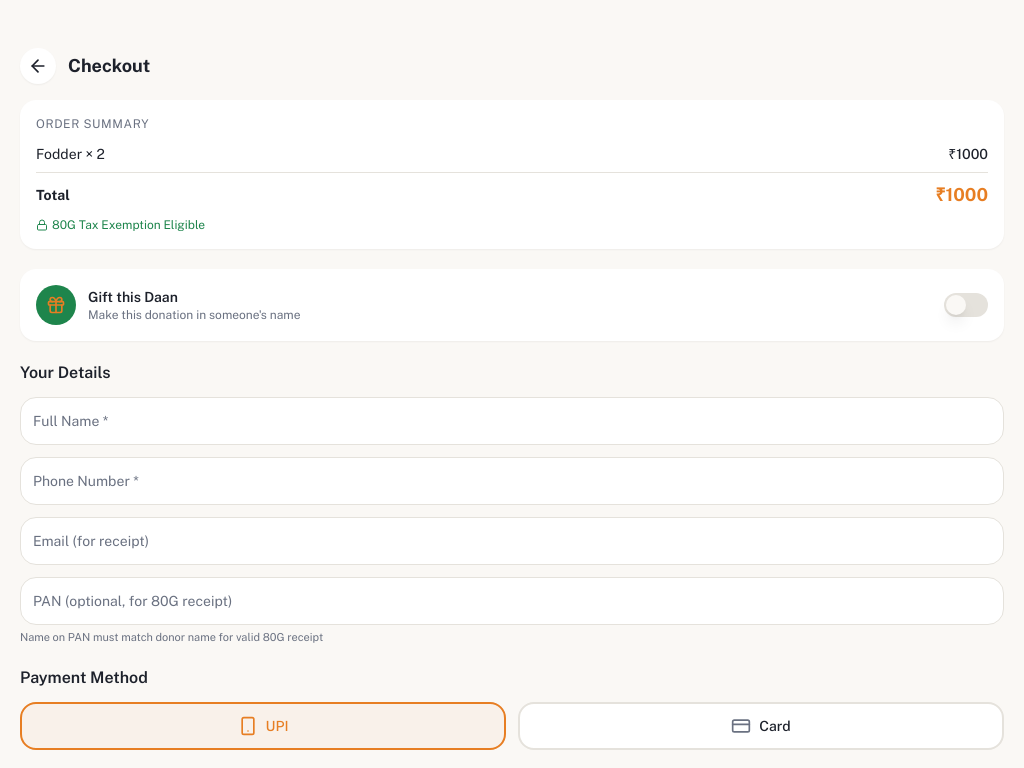
Test: Payment method › switches to card
Click the button "Card" at (761, 726), box [518,702,1004,750]
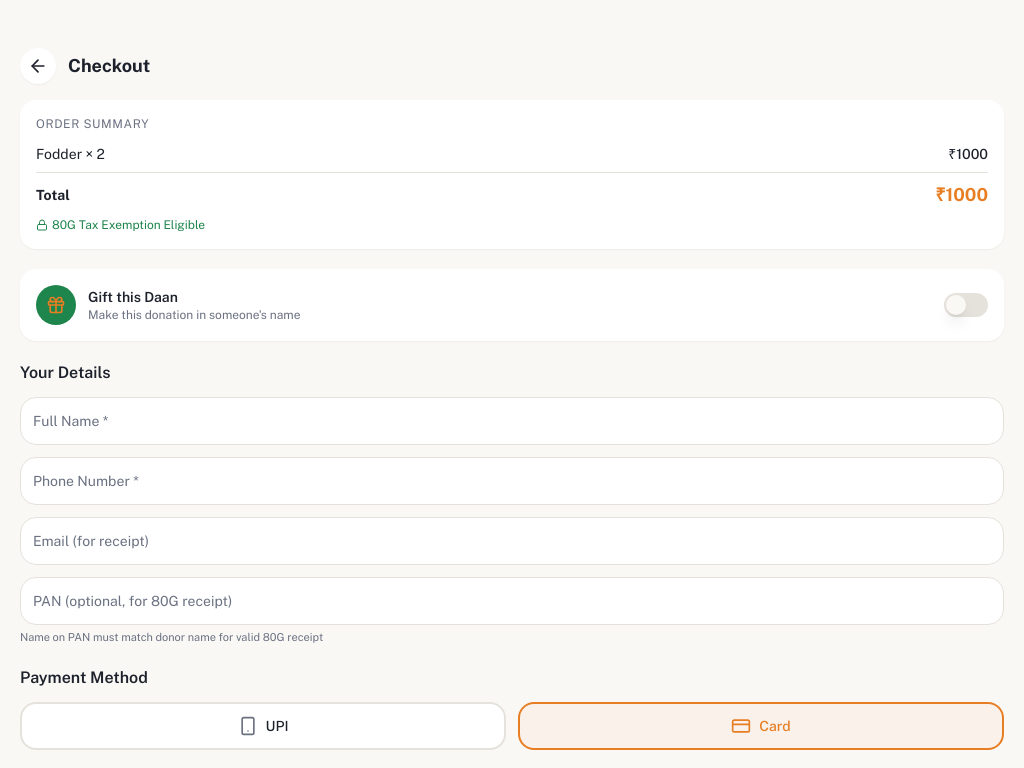
Result: the button "Card" has class "border-primary" at [518,702,1004,750]
